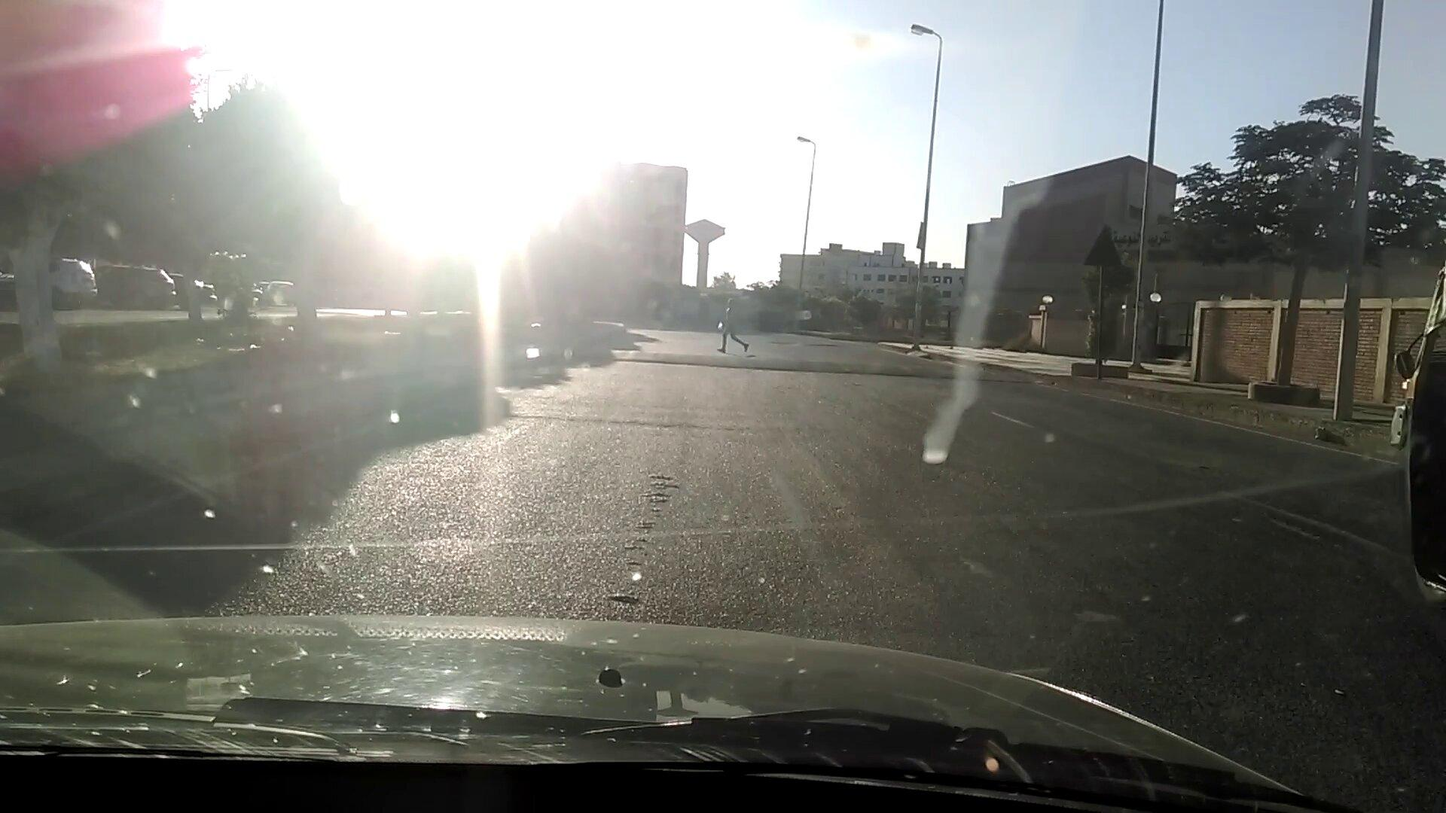Bump: (608, 337, 1052, 386)
